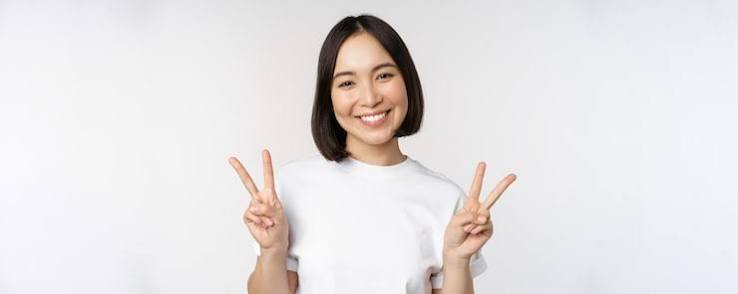peace_sign: (442, 155, 521, 260), (228, 150, 298, 243)
